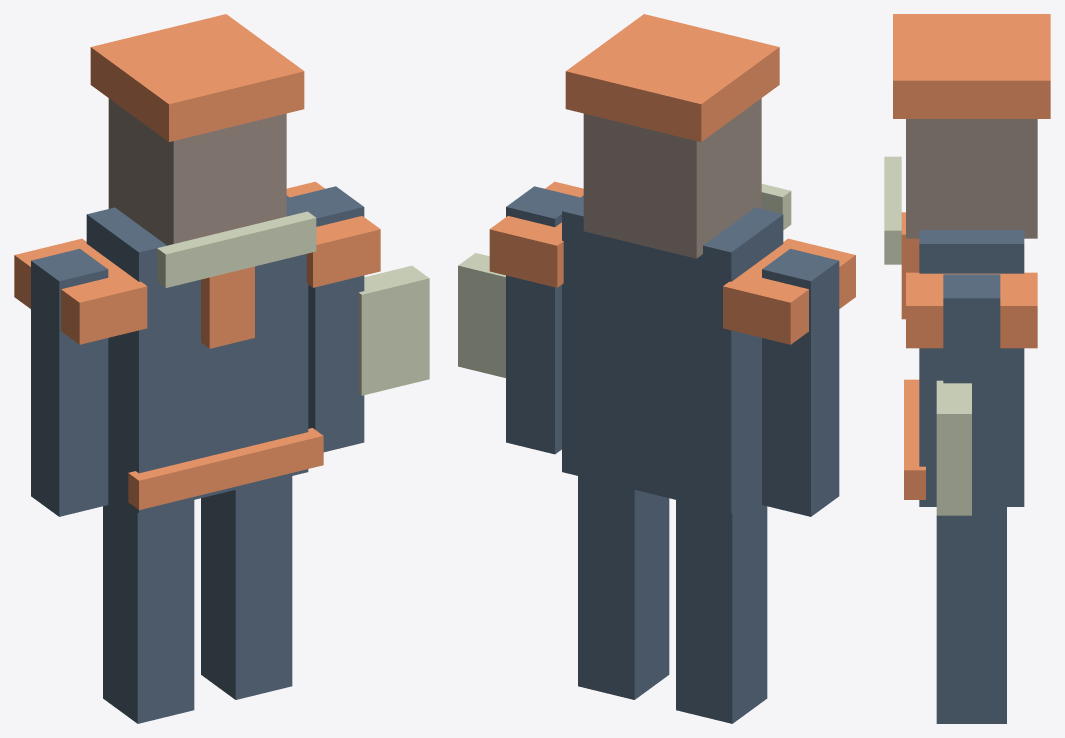
File: 15_luma_gravesong_runner_under_central.glb
3 renders of one model, left to right at view 1: azimuth 30°, elevation 25°; view 2: azimuth 150°, elevation 25°; view 3: azimuth 270°, elevation 25°, orthographic.
Parts seen in each view (by area): view 1: Luma Gravesong, Runner under Central; view 2: Luma Gravesong, Runner under Central; view 3: Luma Gravesong, Runner under Central.
Boxes of the visible parts, x1=… form: Luma Gravesong, Runner under Central: x1=14, y1=14, x2=429, y2=723; Luma Gravesong, Runner under Central: x1=458, y1=14, x2=855, y2=723; Luma Gravesong, Runner under Central: x1=884, y1=14, x2=1050, y2=723.
Bounding box in the file's own units: 0.9712 × 1.6 × 0.3785.
